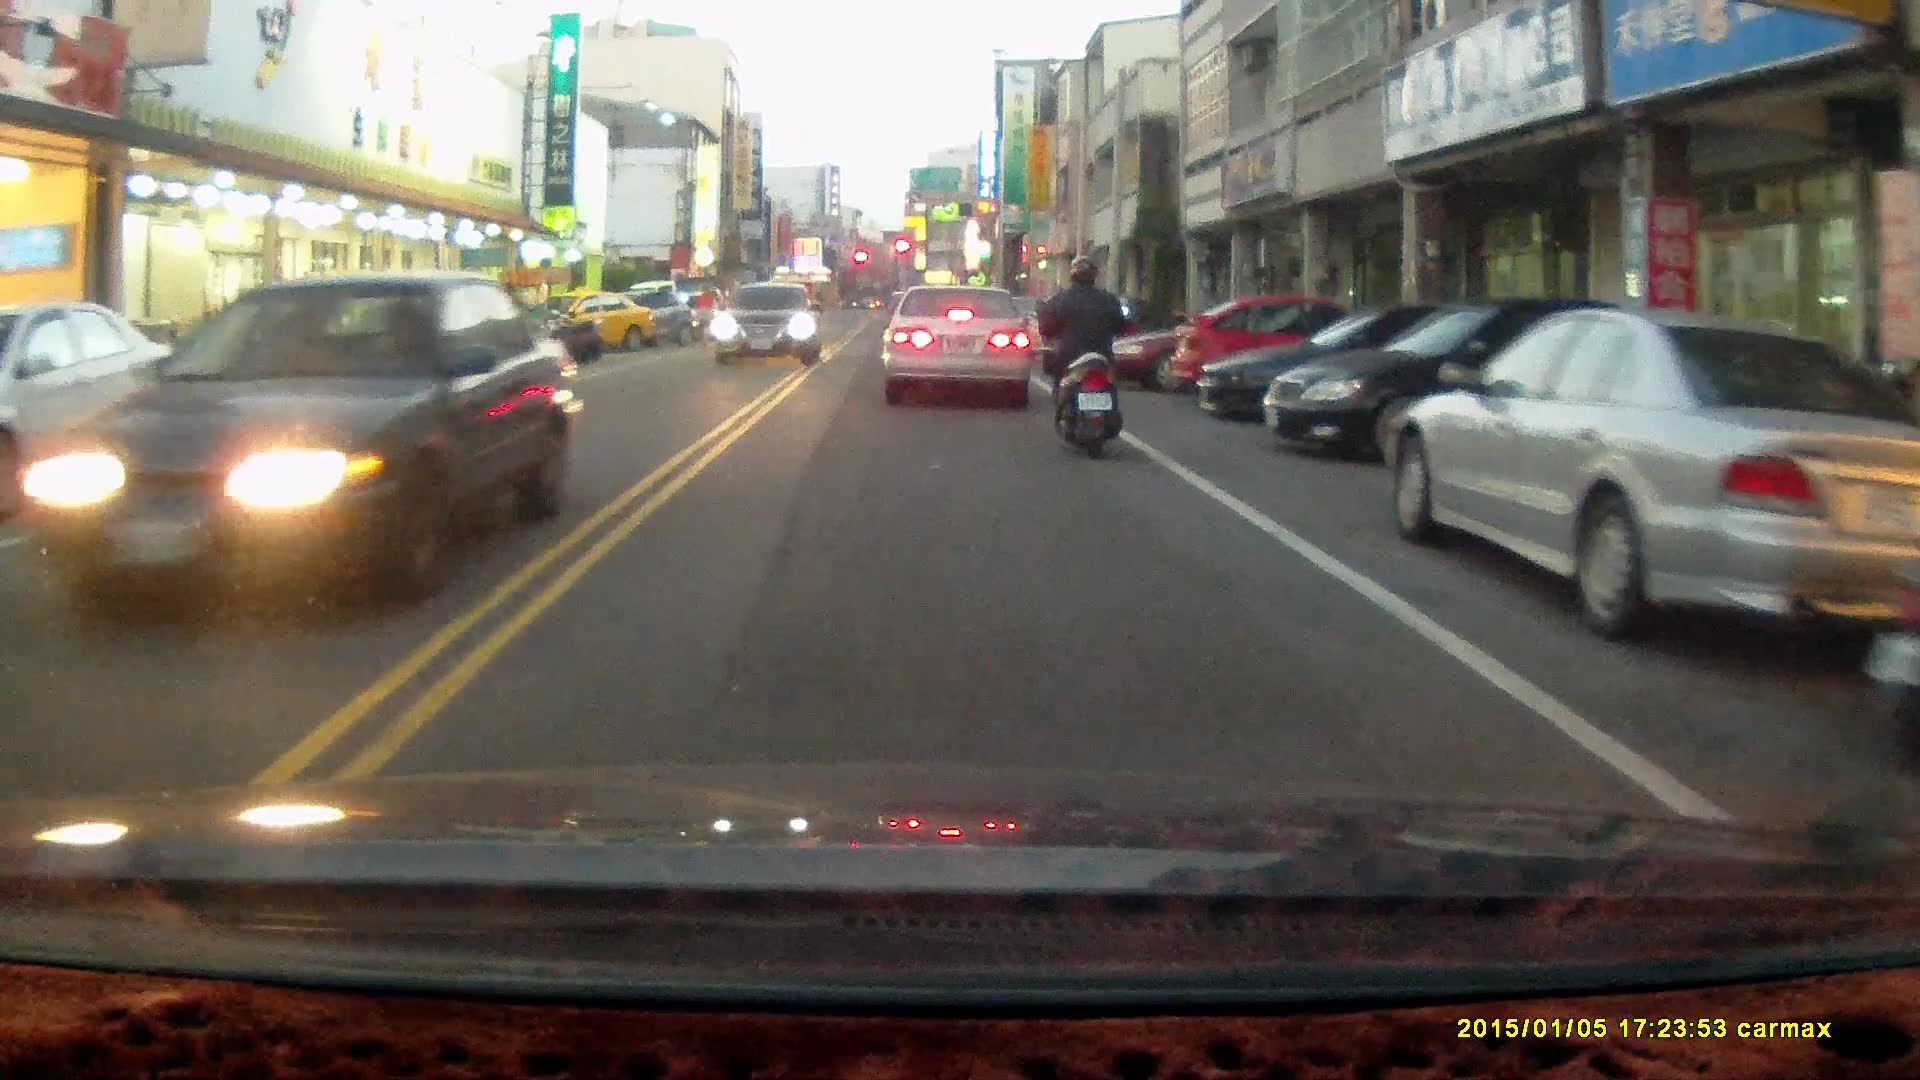rider: (1035, 253, 1131, 461), (691, 285, 720, 354)
vehicle: (45, 276, 572, 614), (1388, 310, 1920, 643), (1261, 311, 1647, 460), (1193, 307, 1562, 428), (0, 308, 164, 522), (1166, 296, 1389, 406), (880, 284, 1034, 411), (714, 282, 824, 370), (524, 289, 651, 361)
